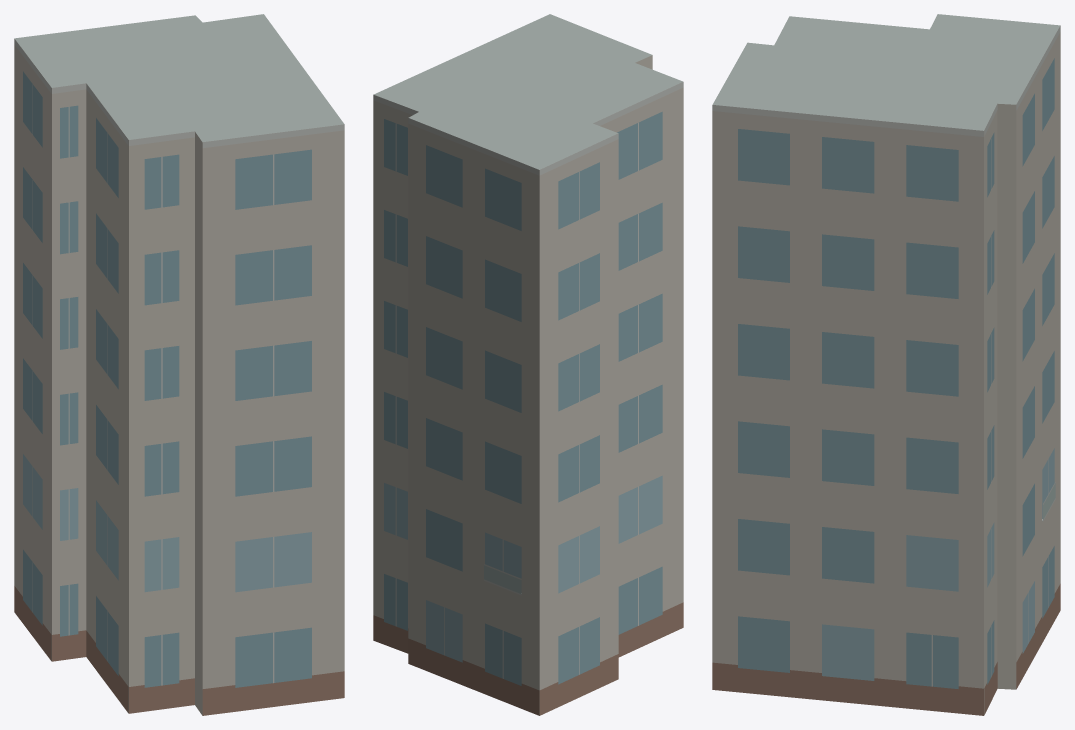
File: survey-upis-32505358.glb
3 renders of one model, left to right at view 1: azimuth 30°, elevation 25°; view 2: azimuth 150°, elevation 25°; view 3: azimuth 270°, elevation 25°, orthographic. The views are drawn at different scales.
Parts seen in each view (by area): view 1: survey-upis-32505358.tmp; view 2: survey-upis-32505358.tmp; view 3: survey-upis-32505358.tmp.
Part boxes in pixels (<box>): survey-upis-32505358.tmp: <box>14,14,344,715</box>; survey-upis-32505358.tmp: <box>373,14,683,715</box>; survey-upis-32505358.tmp: <box>712,14,1060,715</box>.
Bounding box in the file's own units: 9.95 × 23.2 × 12.52.
